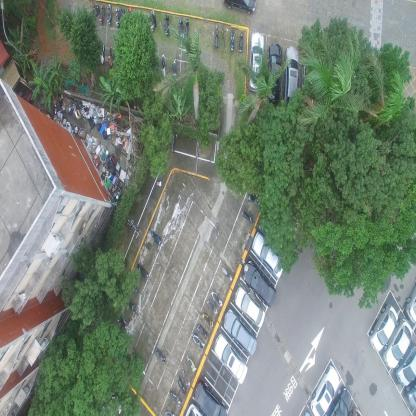car: (212, 331, 248, 385), (222, 307, 258, 357), (242, 258, 276, 308), (252, 230, 284, 280), (310, 363, 340, 415), (383, 317, 413, 369), (369, 303, 399, 352), (234, 284, 265, 328), (193, 380, 228, 415), (266, 41, 283, 105), (285, 41, 301, 107), (248, 30, 264, 93), (396, 342, 416, 388), (324, 386, 353, 416), (223, 0, 256, 18), (406, 282, 416, 326), (405, 378, 416, 408)
